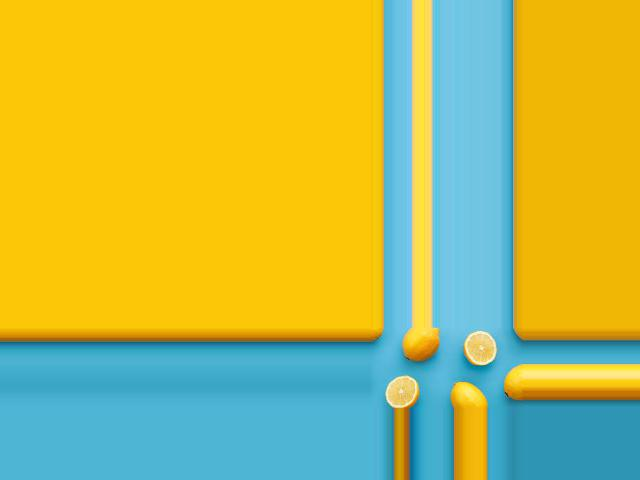lemon: (501, 361, 524, 396)
